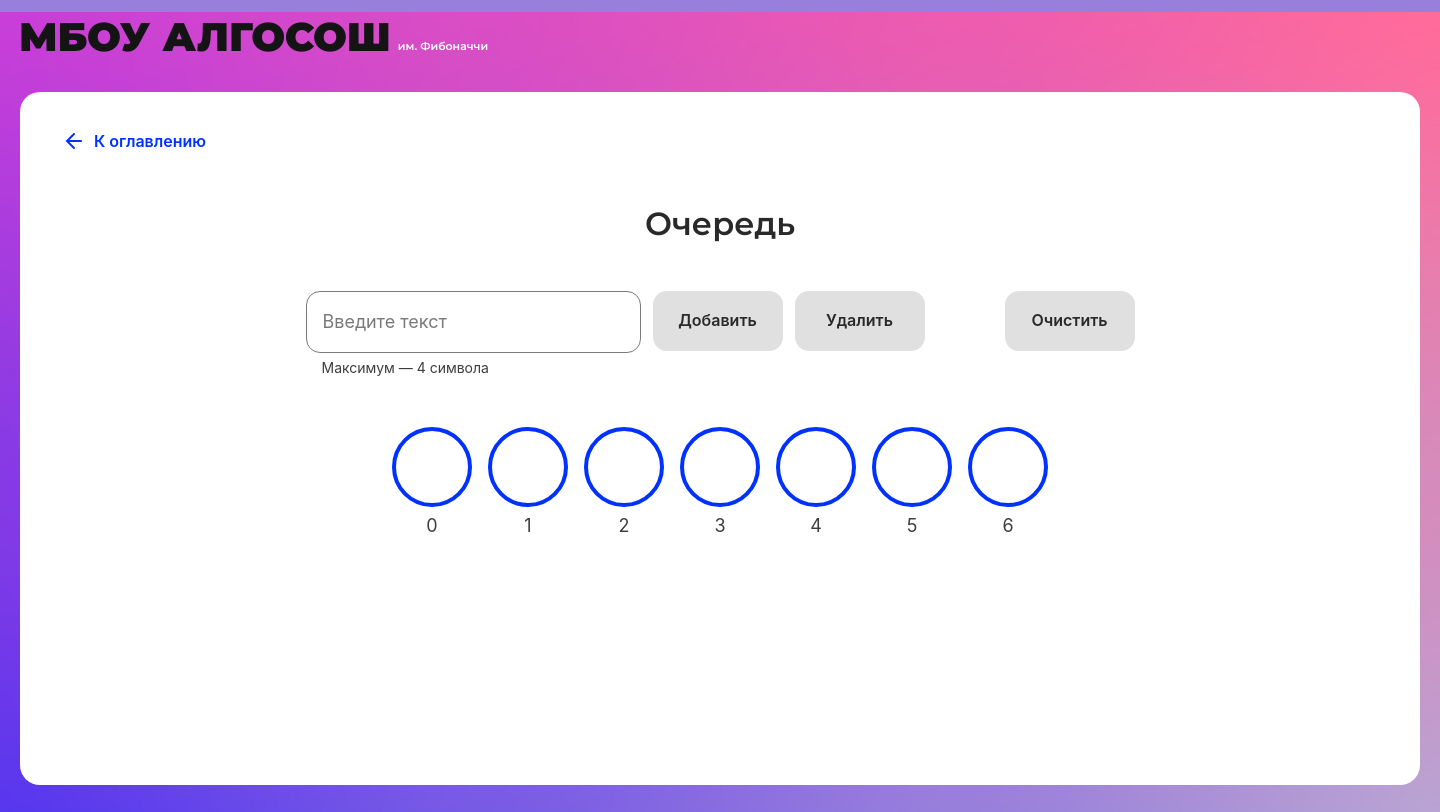
Test: Проверка визуализации структуры данных 'Очередь' › Ограничение длинны строки в поле ввода работает корректно
Step 1. Type "hello" into the field with placeholder "Введите текст" → (474, 322), box [306,291,641,353]
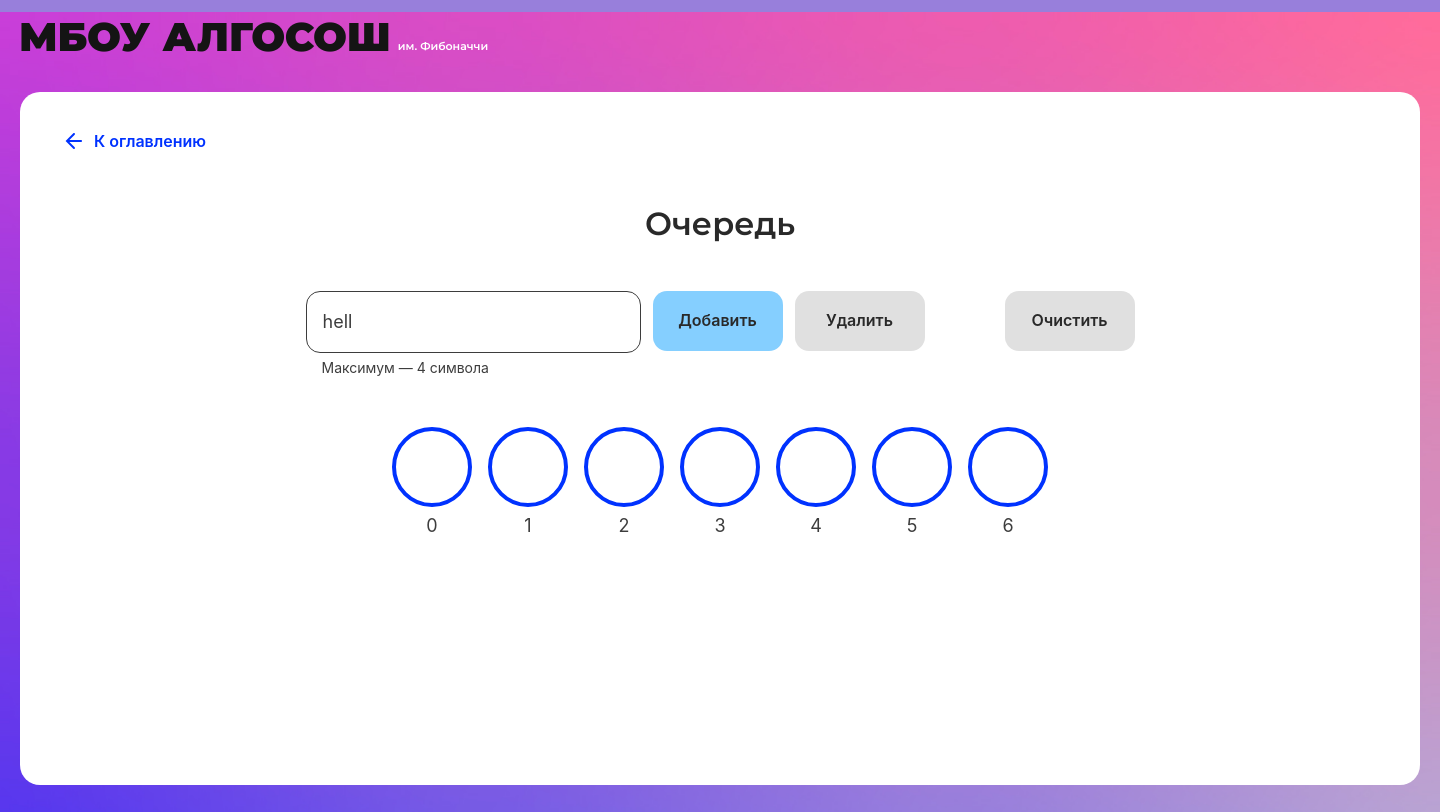
Expected: the field holds "hell", [306,291,641,353]
